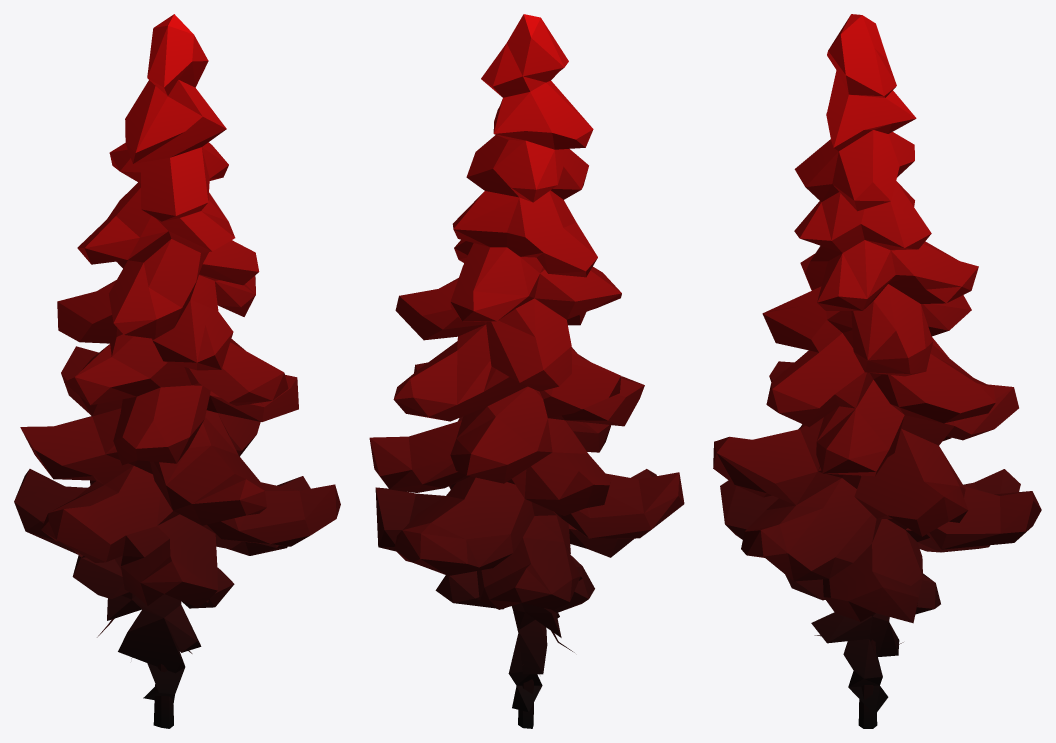
The model's file is TreeSpruce03_Snow.fbx.
3 renders of one model, left to right at view 1: azimuth 30°, elevation 25°; view 2: azimuth 150°, elevation 25°; view 3: azimuth 270°, elevation 25°, orthographic.
Parts seen in each view (by area): view 1: TreeSpruce03_Snow_LOD0; view 2: TreeSpruce03_Snow_LOD0; view 3: TreeSpruce03_Snow_LOD0.
Part boxes in pixels (bbox=[...]): TreeSpruce03_Snow_LOD0: bbox=[14, 14, 340, 728]; TreeSpruce03_Snow_LOD0: bbox=[369, 14, 684, 728]; TreeSpruce03_Snow_LOD0: bbox=[713, 14, 1041, 728].
Size of what is drawn, in the model's own units: 131 by 317 by 132.
